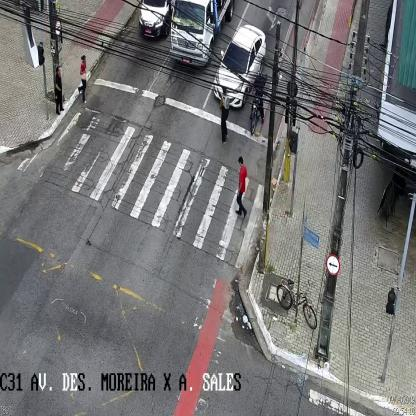bicycle: (276, 276, 316, 331)
car: (214, 23, 265, 110), (138, 2, 173, 39)
person: (234, 155, 248, 219), (76, 54, 90, 105), (219, 85, 230, 143), (54, 64, 64, 116)
truck: (168, 0, 237, 65)
